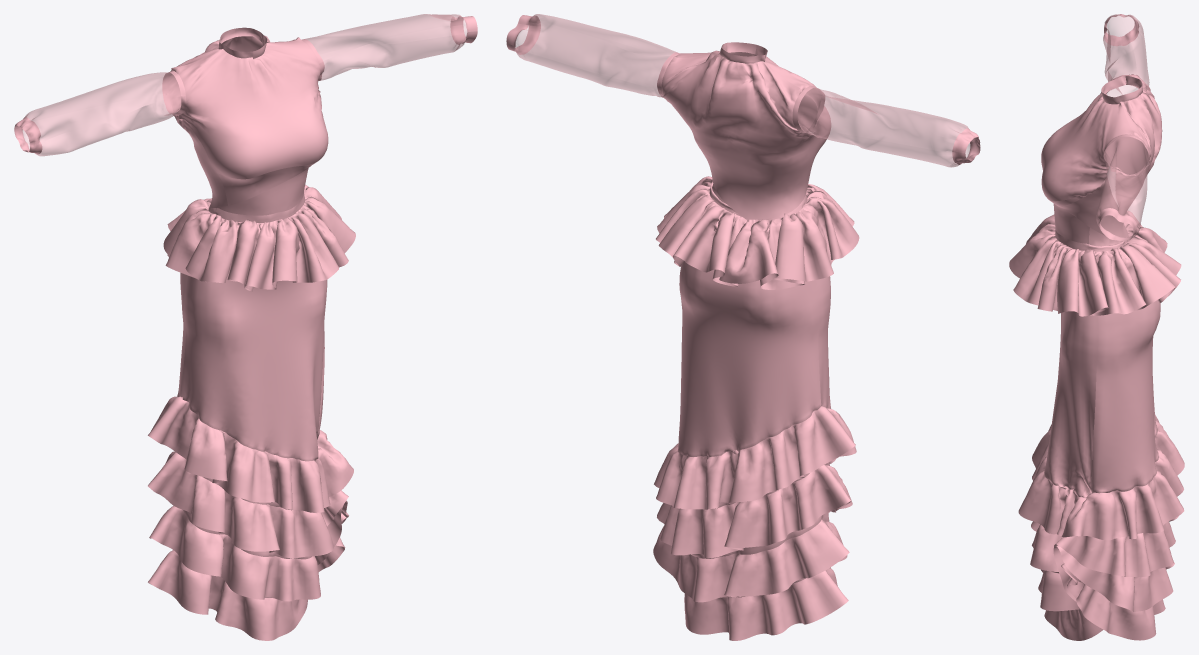
The model's file is G_soft_pink.glb.
3 views of the same model, side by side, from view 1: azimuth 30°, elevation 25°; view 2: azimuth 150°, elevation 25°; view 3: azimuth 270°, elevation 25° (orthographic). The views are drawn at different scales.
Parts seen in each view (by area): view 1: Garment; view 2: Garment; view 3: Garment.
Boxes of the visible parts, x1=… form: Garment: x1=14, y1=14, x2=477, y2=640; Garment: x1=506, y1=14, x2=980, y2=640; Garment: x1=1009, y1=14, x2=1184, y2=640.
Size of the model in its own units: 1.15 by 1.41 by 0.4118.
Materials: 1 (1 with a texture image).
